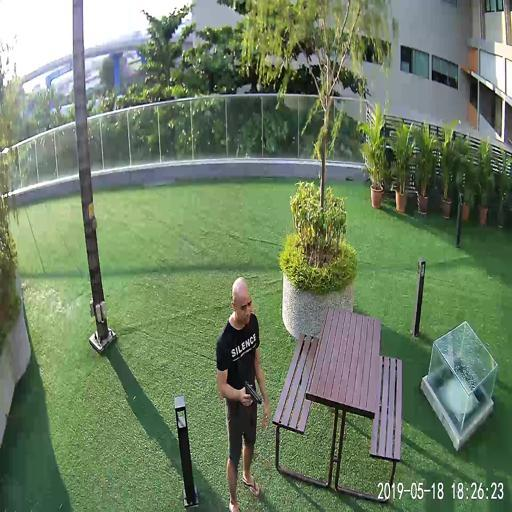Handgun: (243, 378, 260, 408)
